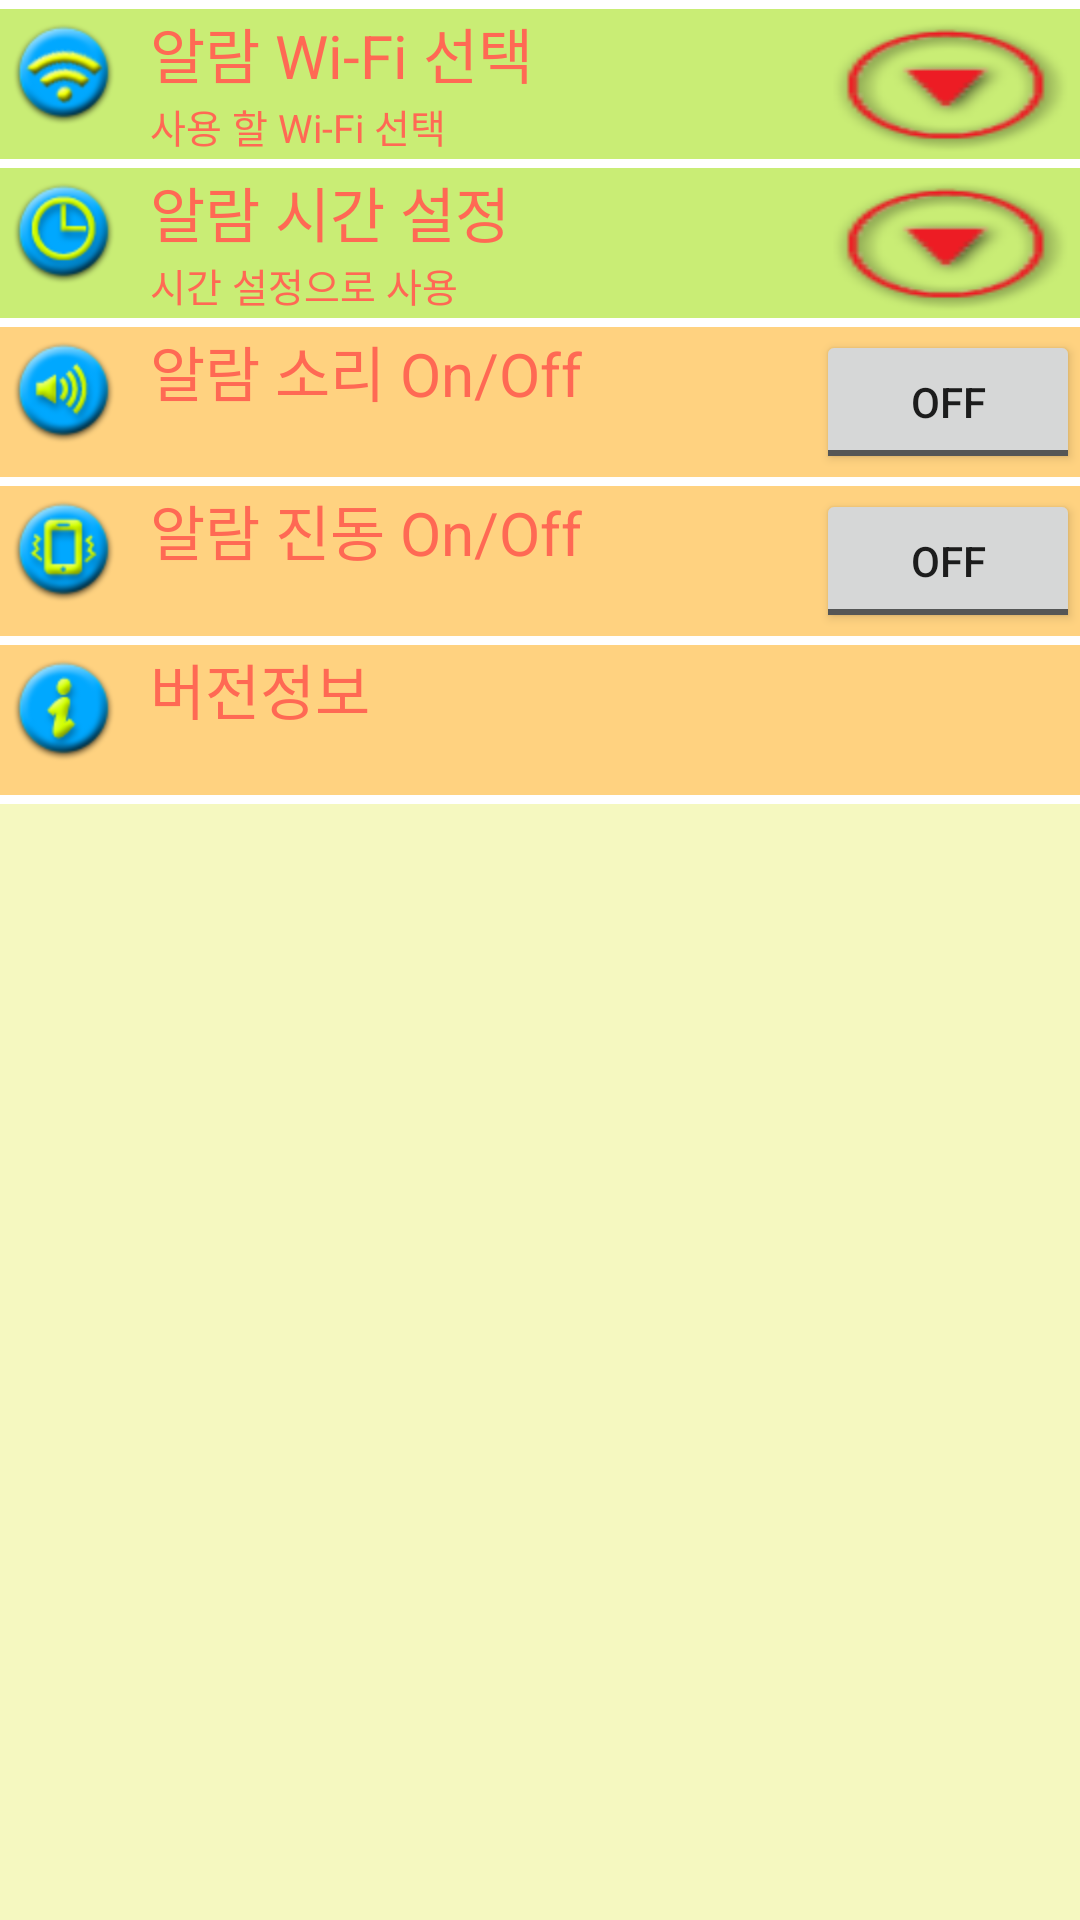

Icons on this 1080px×1920px Android screen, each with its box as (x1, y1, x2, y2):
alram: (16, 185, 112, 281)
drop down: (843, 28, 1058, 146), (843, 187, 1058, 305)
info: (16, 662, 112, 758)
sound: (16, 344, 112, 440)
vibrator: (16, 503, 112, 599)
wifi full: (16, 26, 112, 122)
